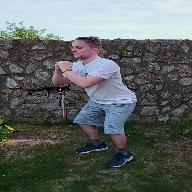squats: (39, 32, 147, 170)
